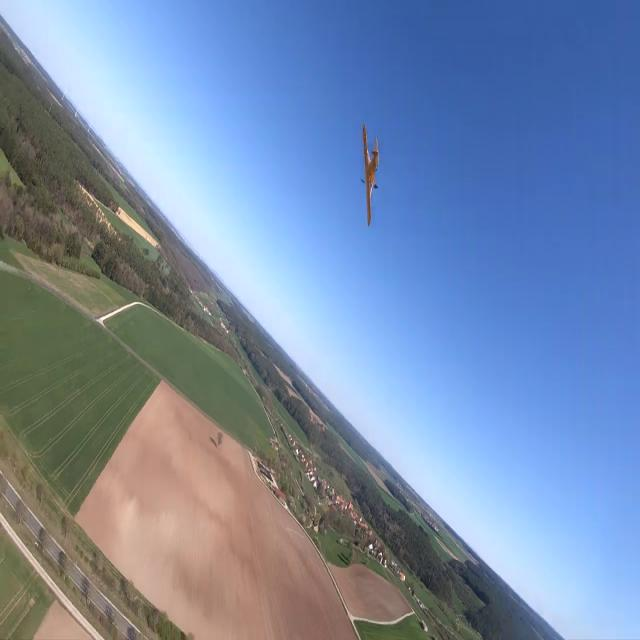iha: (358, 154, 381, 196)
